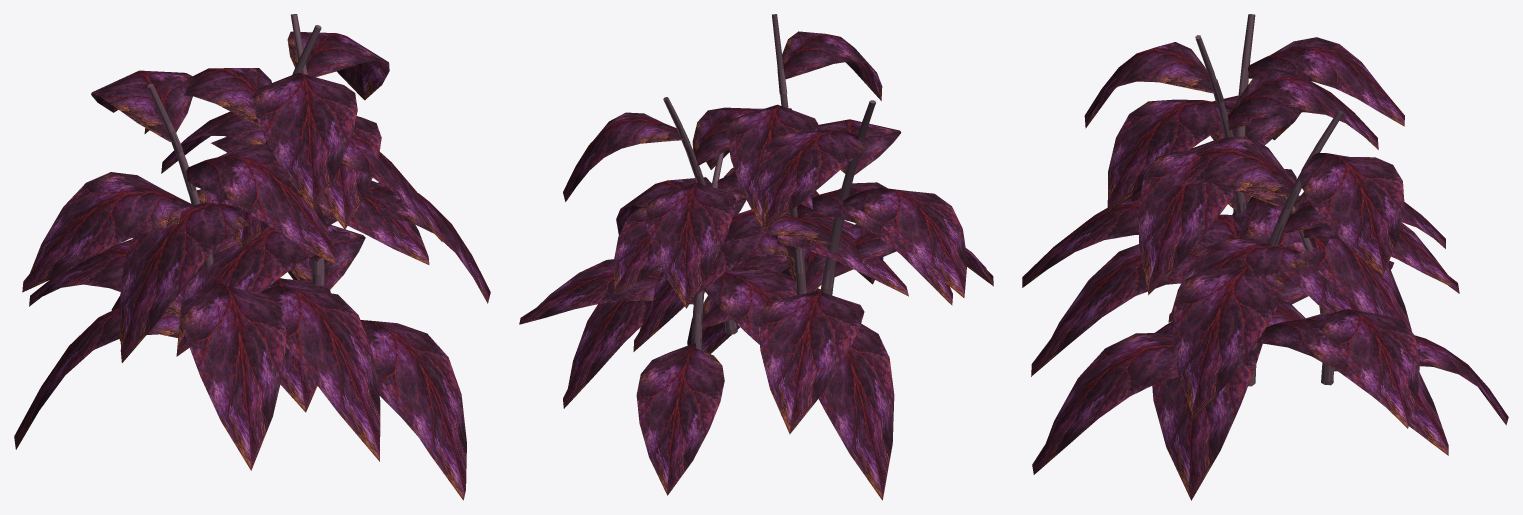
The model's file is broadgrass_08.glb.
3 views of the same model, side by side, from view 1: azimuth 30°, elevation 25°; view 2: azimuth 150°, elevation 25°; view 3: azimuth 270°, elevation 25° (orthographic). The views are drawn at different scales.
Visible parts, largest first — view 1: export; view 2: export; view 3: export.
Boxes of the visible parts, <box> form: export: <box>14,14,490,500</box>; export: <box>519,14,993,500</box>; export: <box>1022,14,1508,500</box>.
Size of the model in its own units: 0.8434 by 0.8058 by 0.8425.
2 materials, 2 textured.
